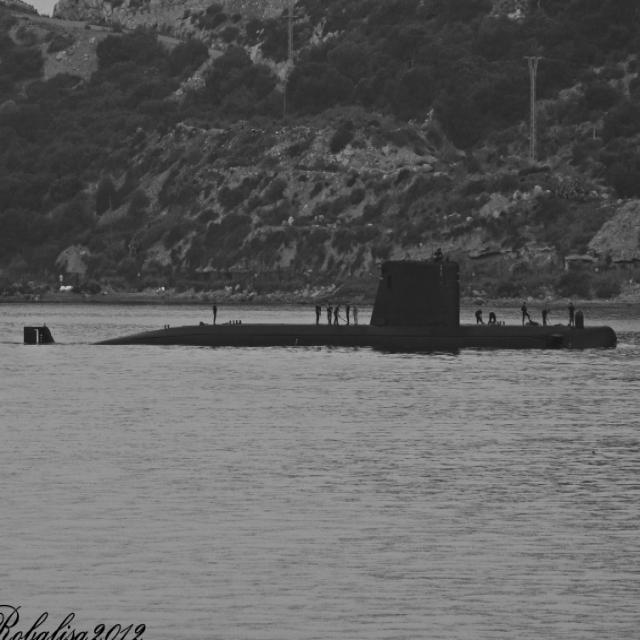submarine: (22, 257, 624, 344)
